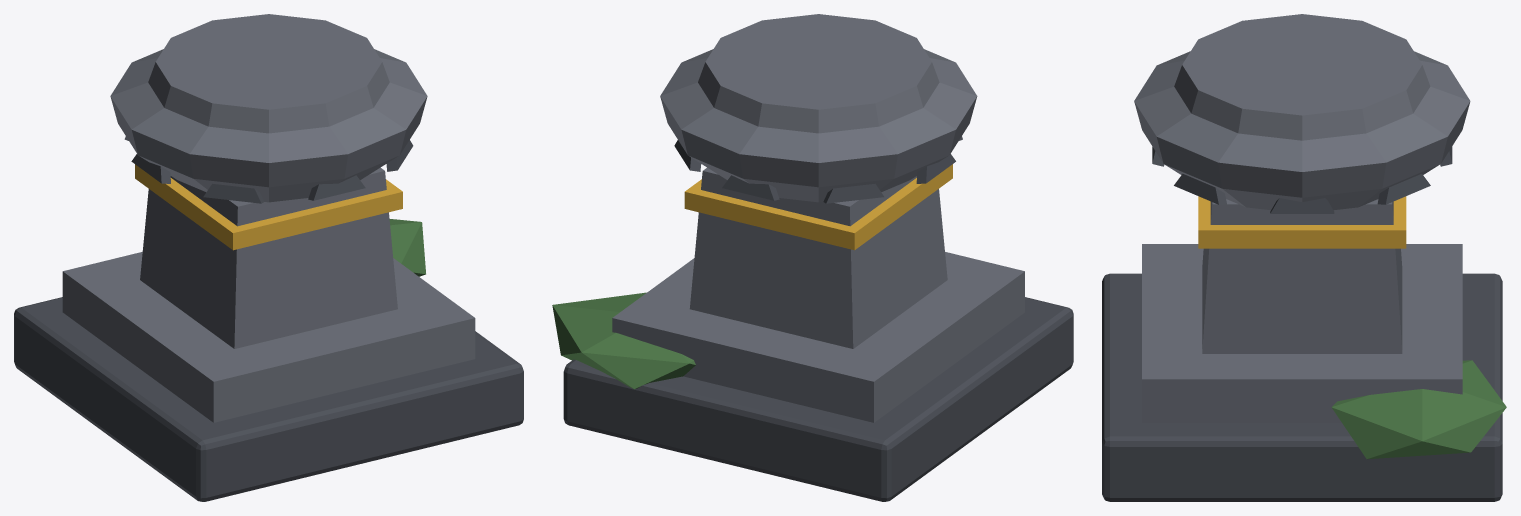
The model's file is altar_dewa.glb.
The picture shows the model from 3 angles, left to right: view 1: azimuth 30°, elevation 25°; view 2: azimuth 150°, elevation 25°; view 3: azimuth 270°, elevation 25°; orthographic projection. The views are drawn at different scales.
Visible parts, largest first — view 1: altar_dewa_mesh; view 2: altar_dewa_mesh; view 3: altar_dewa_mesh.
Boxes of the visible parts, left/top/right/bottom form: altar_dewa_mesh: left=14, top=14, right=523, bottom=501; altar_dewa_mesh: left=552, top=14, right=1073, bottom=501; altar_dewa_mesh: left=1102, top=14, right=1506, bottom=501.
Bounding box in the file's own units: 1.14 × 0.98 × 1.01.
